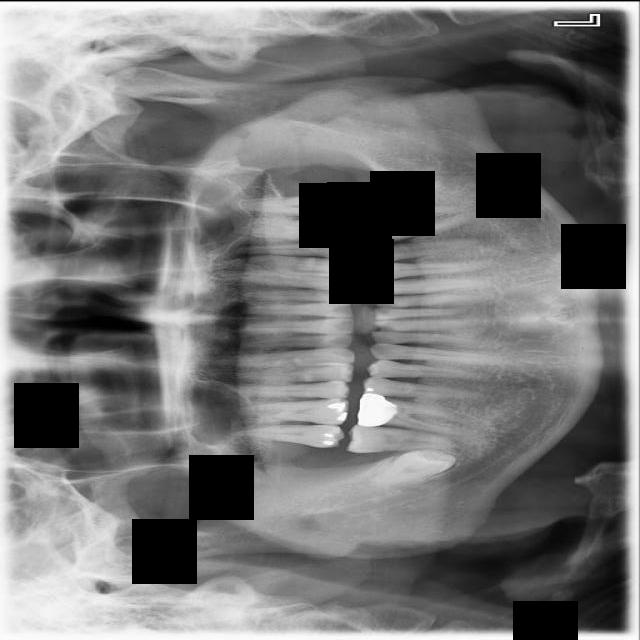52: (355, 208, 395, 249), (356, 391, 398, 429), (346, 182, 380, 221), (307, 423, 346, 448), (317, 397, 350, 424), (362, 375, 392, 396)
73: (376, 201, 477, 245), (554, 42, 568, 46)
BioHorizons Implant: (226, 190, 346, 217)
Blue Sky Bio Implant: (345, 176, 445, 219)
Caries: (227, 421, 348, 449)
Implant: (346, 423, 454, 458)
Keystone Dental Implant: (363, 438, 459, 491)
